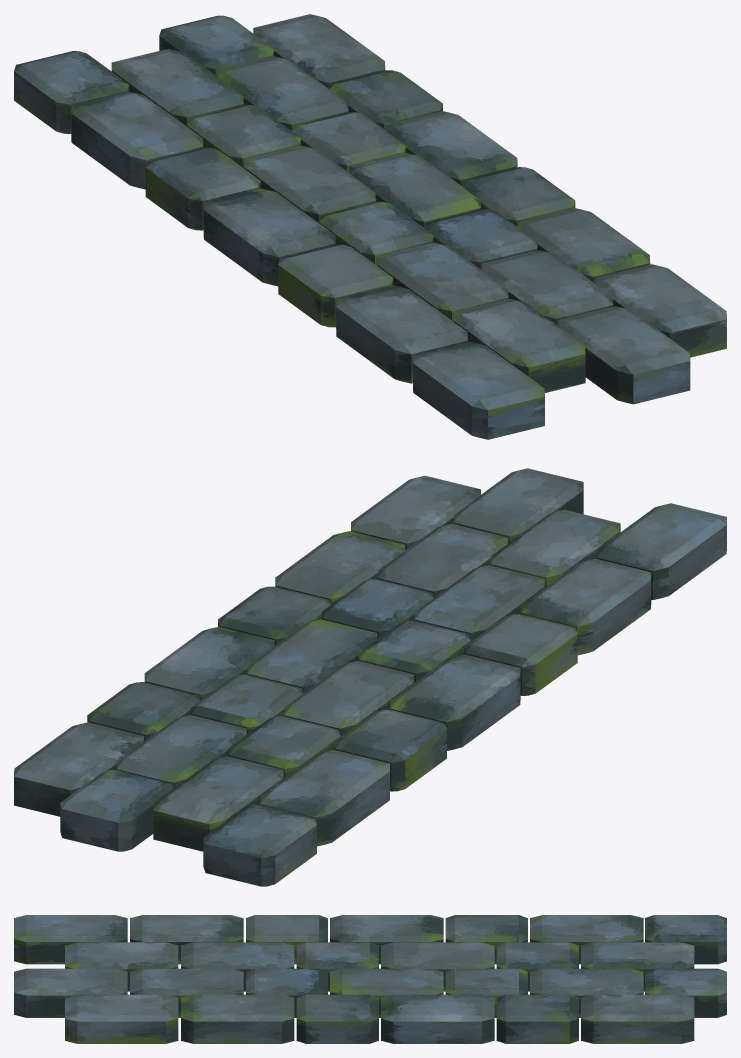
Rendered from Stone Flat Road.fbx.
The picture shows the model from 3 angles, top to bottom: view 1: azimuth 30°, elevation 25°; view 2: azimuth 150°, elevation 25°; view 3: azimuth 270°, elevation 25°; orthographic projection. The views are drawn at different scales.
Visible parts, largest first — view 1: Stone_Flat_Road; view 2: Stone_Flat_Road; view 3: Stone_Flat_Road.
Part boxes in pixels (x1=…): Stone_Flat_Road: x1=14, y1=14, x2=726, y2=439; Stone_Flat_Road: x1=14, y1=468, x2=726, y2=886; Stone_Flat_Road: x1=14, y1=915, x2=726, y2=1043.
Size of the model in its own units: 788 by 98.42 by 2234.
